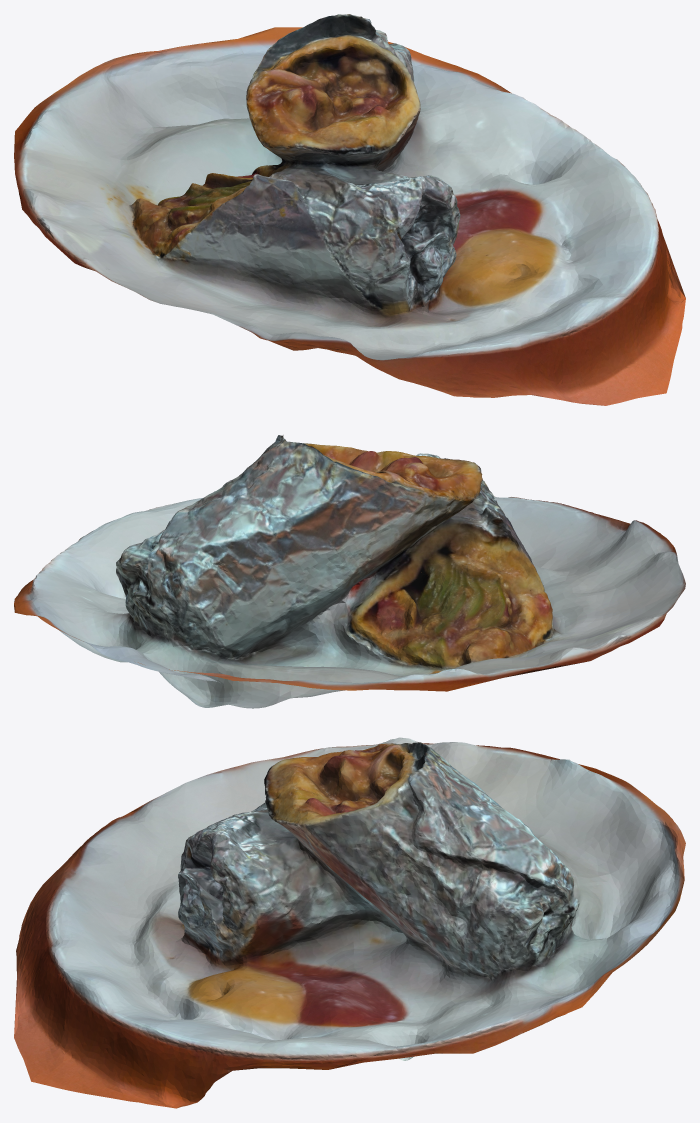
The model's file is shawrma.glb.
The picture shows the model from 3 angles, top to bottom: view 1: azimuth 30°, elevation 25°; view 2: azimuth 150°, elevation 25°; view 3: azimuth 270°, elevation 25°; orthographic projection. The views are drawn at different scales.
Size of the model in its own units: 1.16 by 0.5229 by 1.23.
Materials: 1 (1 with a texture image).
